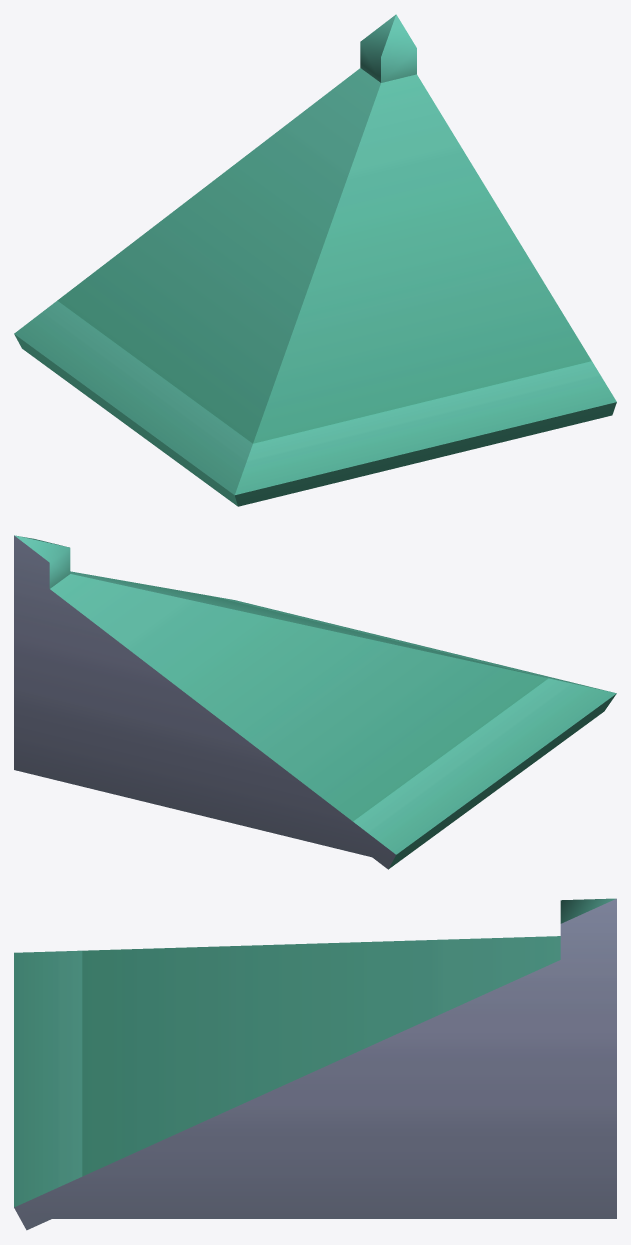
File: roof-corner.glb
The picture shows the model from 3 angles, top to bottom: view 1: azimuth 30°, elevation 25°; view 2: azimuth 150°, elevation 25°; view 3: azimuth 270°, elevation 25°; orthographic projection. The views are drawn at different scales.
Visible parts, largest first — view 1: roof-corner; view 2: roof-corner; view 3: roof-corner.
Part boxes in pixels (x1=…): roof-corner: x1=14, y1=14, x2=616, y2=506; roof-corner: x1=14, y1=535, x2=616, y2=869; roof-corner: x1=14, y1=898, x2=616, y2=1230.
Size of the model in its own units: 1.07 by 0.6483 by 1.07.
1 material, 1 textured.
